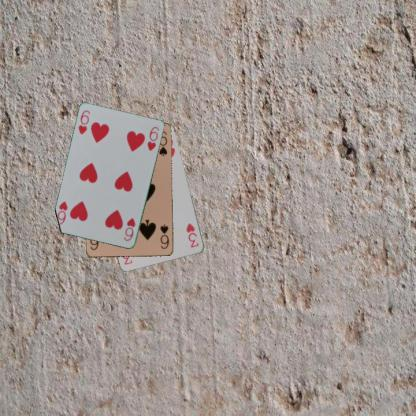3h: (184, 221, 200, 249)
6h: (76, 107, 91, 136), (121, 216, 137, 243)
6s: (158, 222, 170, 250)
